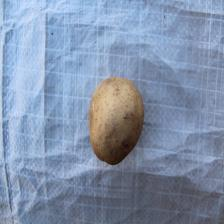Diseased-fungal potato: (89, 76, 145, 166)
